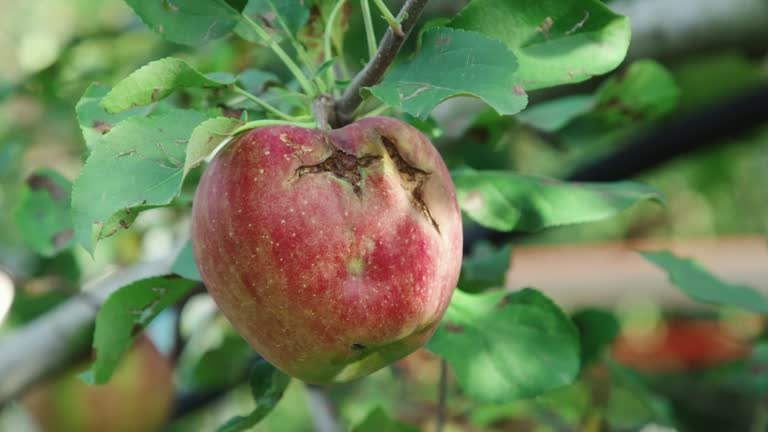apple: (188, 118, 518, 392)
